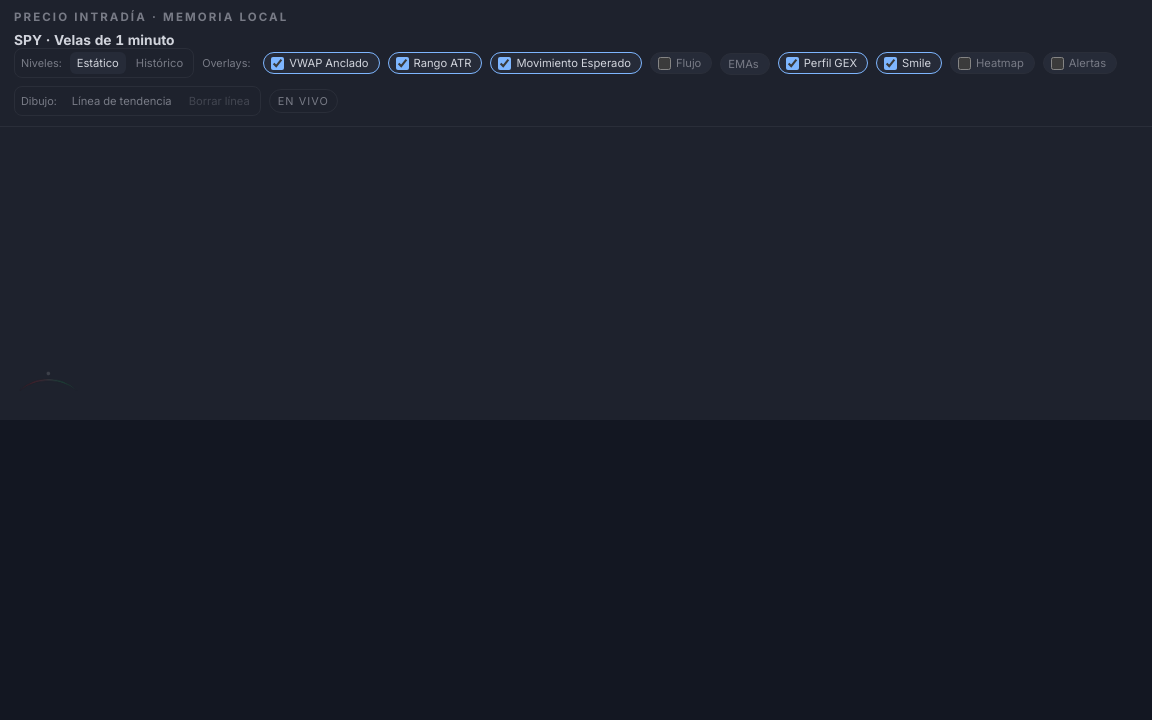
PriceChart › EMAs: the menu starts empty and any typed period draws a coloured line with the EMA of the candle closes, persisted in this browser
The image size is (1152, 720).
Click the button "EMAs" at (745, 64), box x1=720 y1=52 x2=770 y2=74
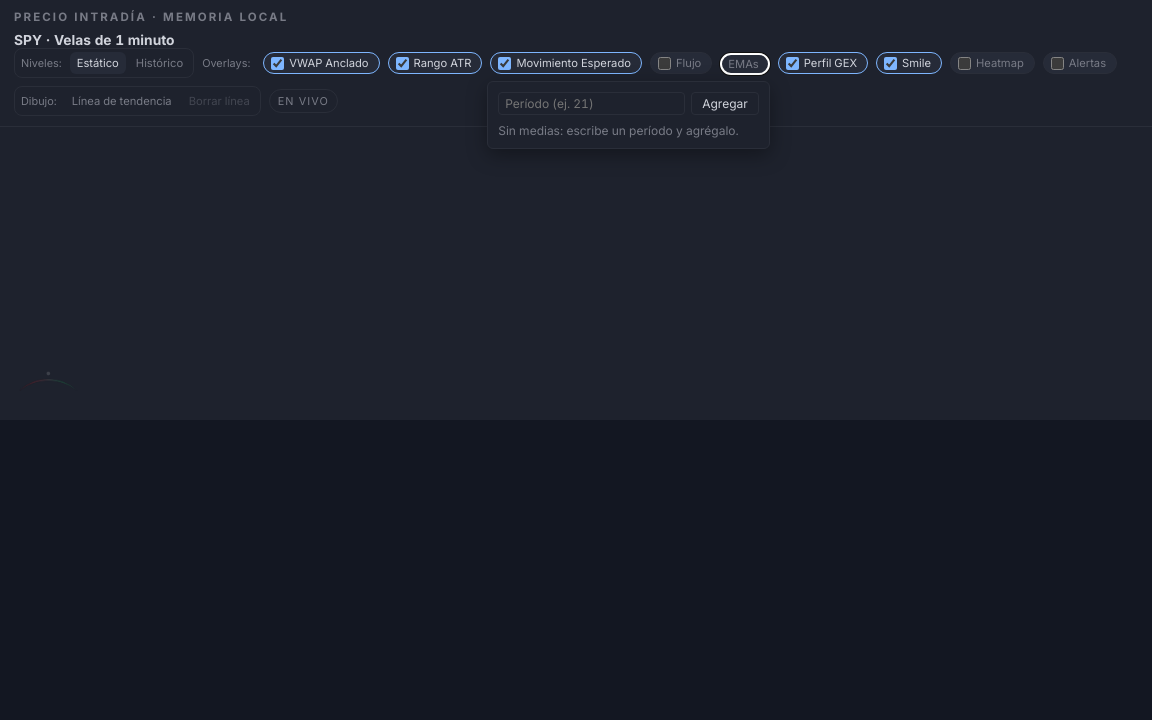
Now the text "Sin medias: escribe un período y agrégalo." is shown, box x1=498 y1=122 x2=759 y2=138
Type "2" into the field named "Período de la nueva EMA" at (592, 103), box x1=498 y1=92 x2=685 y2=114
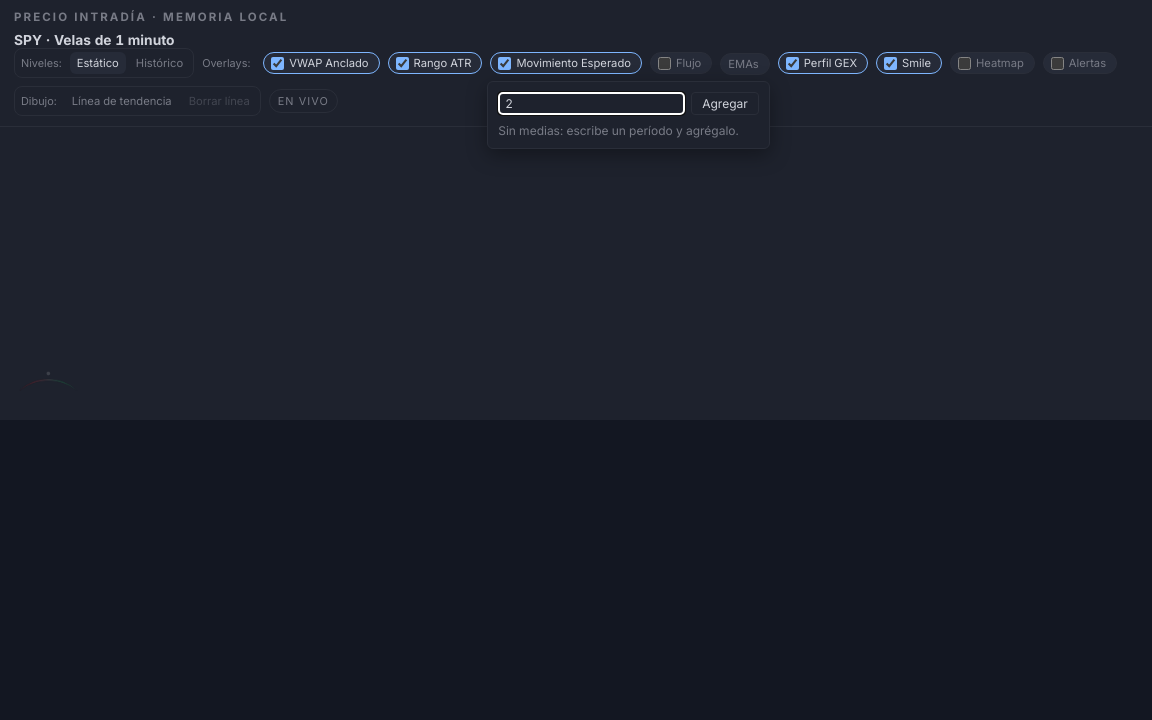
Click the button "Agregar" at (725, 103), box x1=691 y1=92 x2=759 y2=114
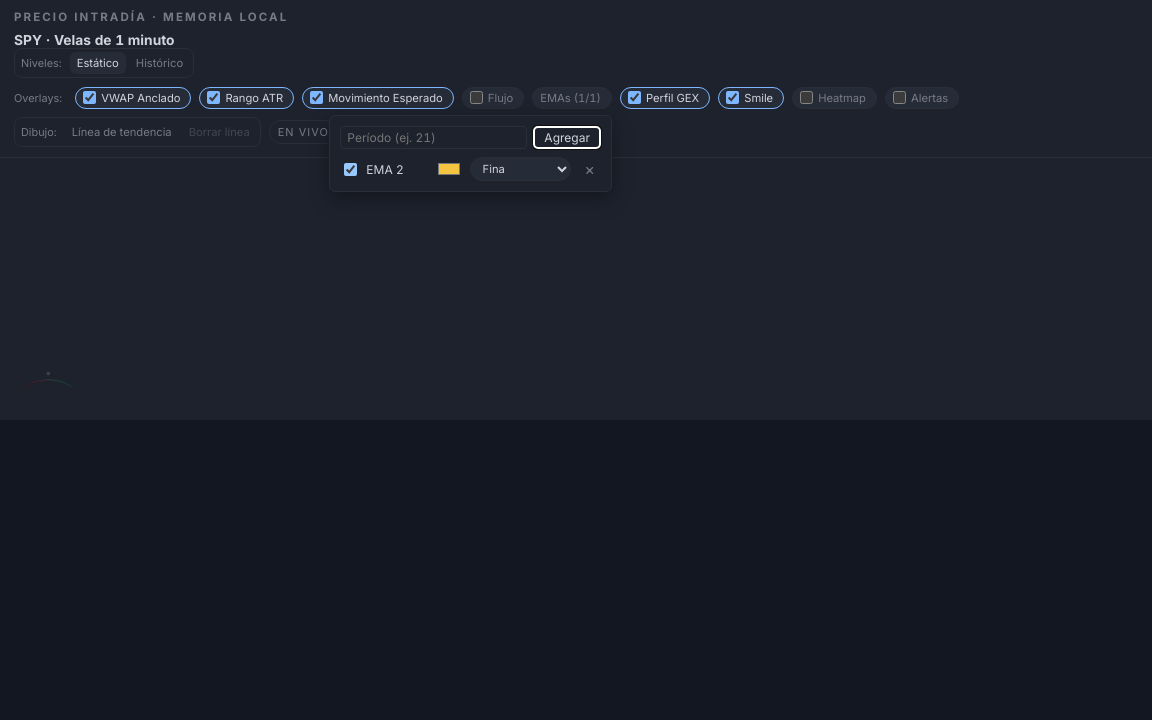
Click the checkbox named "Mostrar EMA 2" at (351, 169), box x1=344 y1=162 x2=357 y2=176
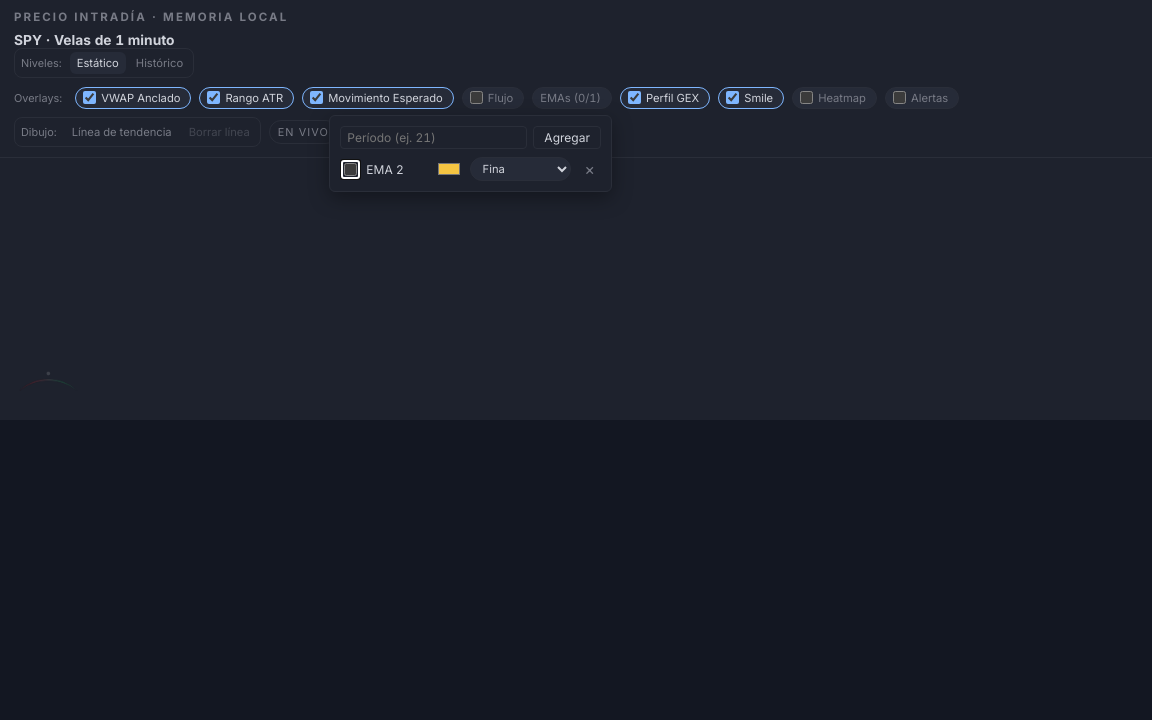
Click the button named "Quitar EMA 2" at (590, 169), box x1=579 y1=160 x2=601 y2=178
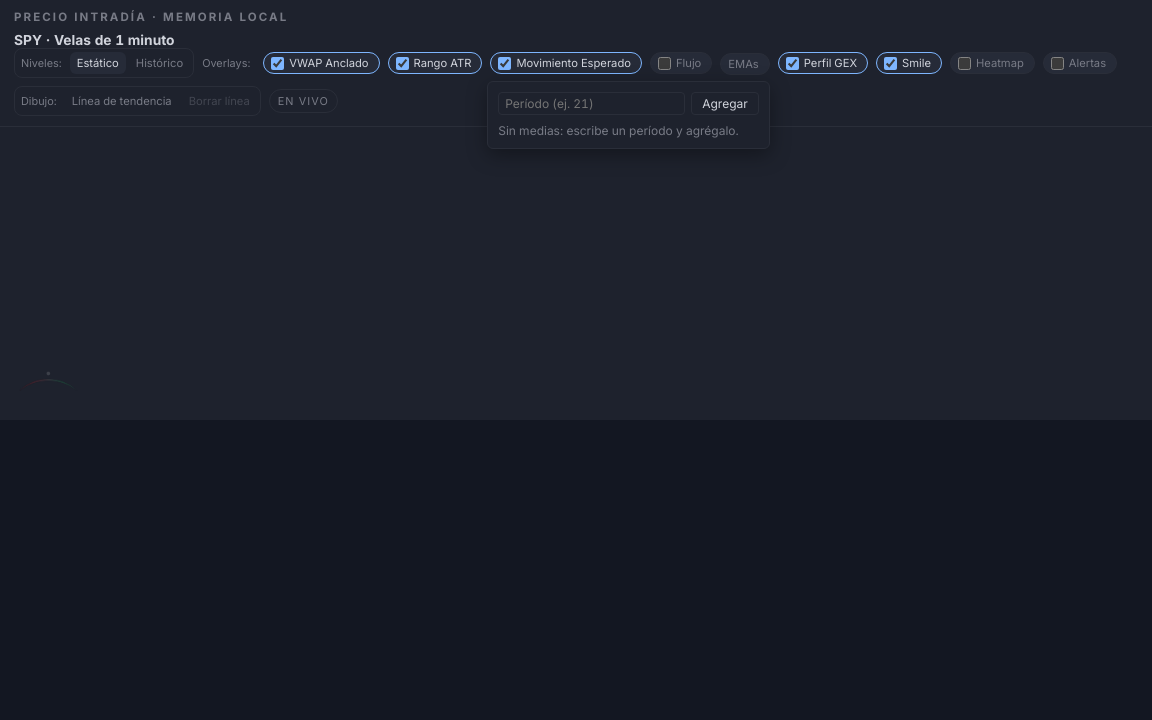
Now the text "Sin medias: escribe un período y agrégalo." is shown, box x1=498 y1=122 x2=759 y2=138
